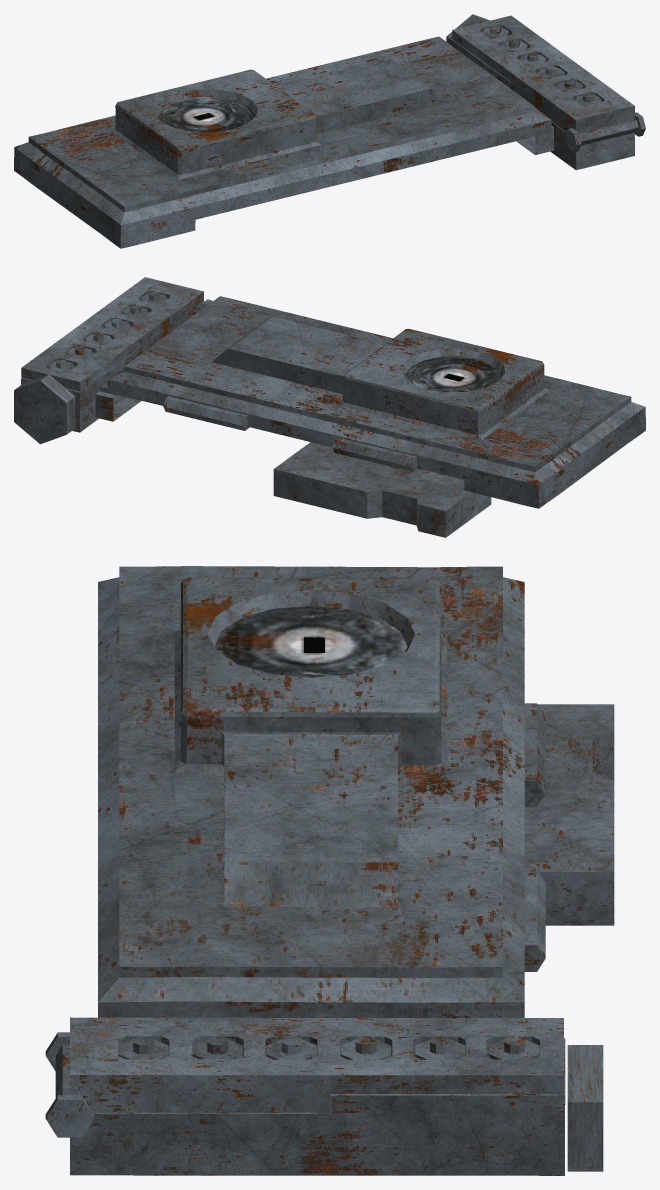
The model's file is signature machine writer1.glb.
The picture shows the model from 3 angles, top to bottom: view 1: azimuth 30°, elevation 25°; view 2: azimuth 150°, elevation 25°; view 3: azimuth 270°, elevation 25°; orthographic projection. The views are drawn at different scales.
Visible parts, largest first — view 1: signature machine lid, main writer hinge, hinge lower part; view 2: signature machine lid, side button, main writer hinge, hinge lower part; view 3: signature machine lid, hinge lower part, main writer hinge, side button.
Boxes of the visible parts, bbox=[...] form: signature machine lid: bbox=[14, 36, 551, 248]; main writer hinge: bbox=[452, 15, 634, 132]; hinge lower part: bbox=[446, 14, 645, 170]; signature machine lid: bbox=[107, 296, 645, 508]; side button: bbox=[273, 442, 491, 537]; main writer hinge: bbox=[21, 277, 203, 398]; hinge lower part: bbox=[14, 299, 212, 444]; signature machine lid: bbox=[98, 566, 545, 1017]; hinge lower part: bbox=[45, 1032, 603, 1175]; main writer hinge: bbox=[70, 1017, 563, 1112]; side button: bbox=[524, 704, 614, 925].
Bounding box in the file's own units: 21.88 × 4.23 × 10.52.
Materials: 4 (2 with a texture image).
